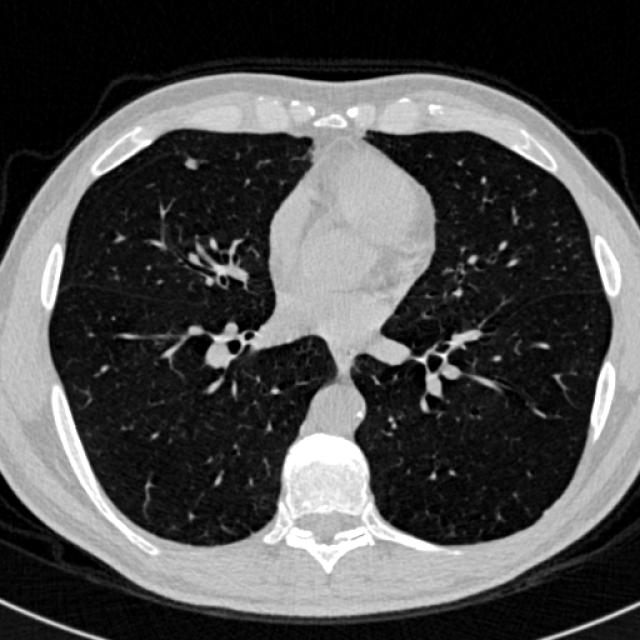nodule: (179, 151, 201, 174)
